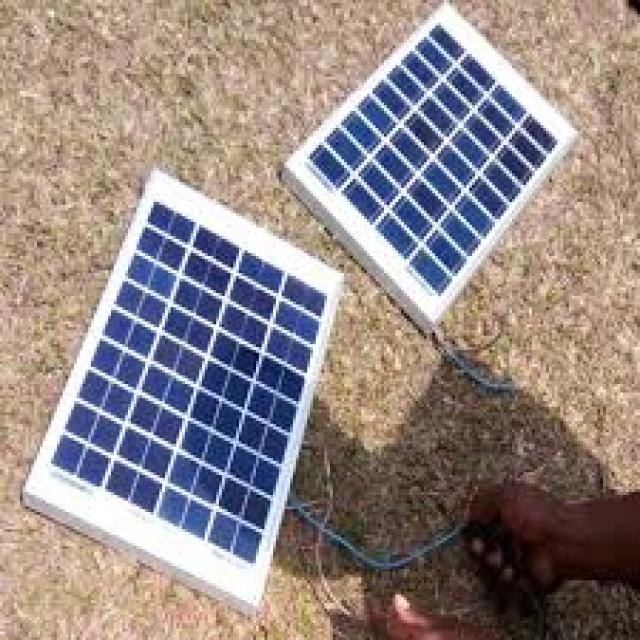Solar: (41, 176, 347, 606), (287, 7, 579, 318)
